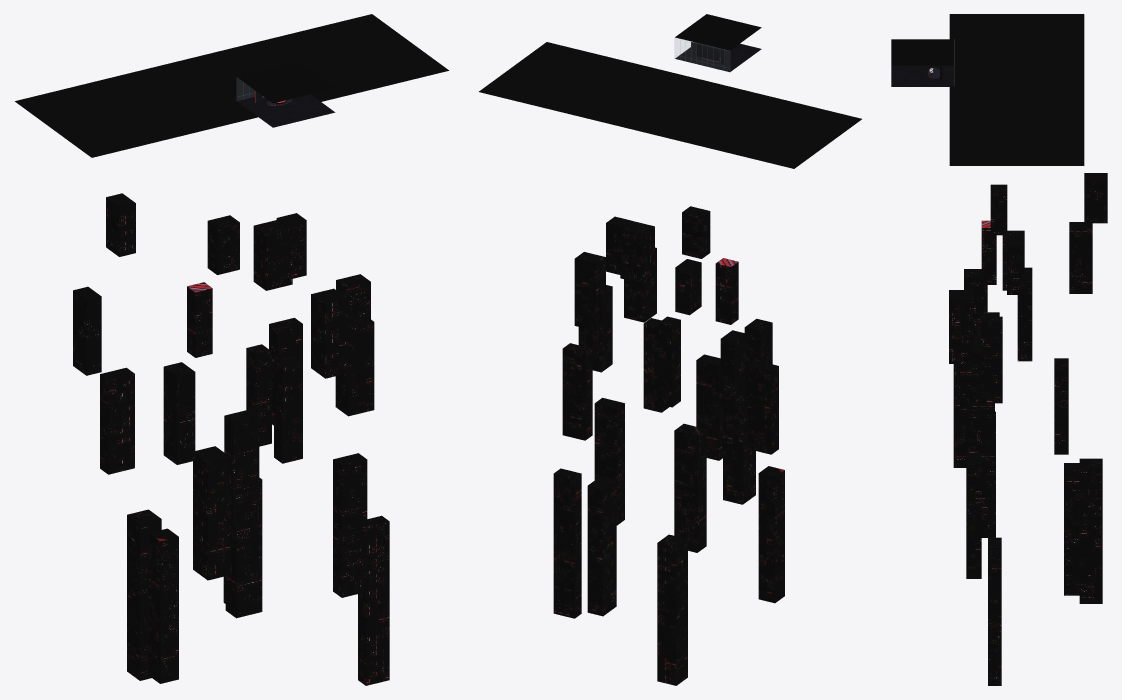
The model's file is newsroom-breaking.glb.
The picture shows the model from 3 angles, left to right: view 1: azimuth 30°, elevation 25°; view 2: azimuth 150°, elevation 25°; view 3: azimuth 270°, elevation 25°; orthographic projection. The views are drawn at different scales.
Visible parts, largest first — view 1: news_skyline, news_ceiling, news_floor; view 2: news_skyline, news_ceiling, news_glass, news_floor; view 3: news_skyline, news_ceiling, news_floor.
Boxes of the visible parts, x1,y1,x2,y2 form: news_skyline: (15, 14, 448, 685); news_ceiling: (237, 61, 335, 103); news_floor: (237, 94, 335, 127); news_skyline: (479, 42, 861, 685); news_ceiling: (675, 14, 761, 50); news_glass: (674, 37, 729, 71); news_floor: (675, 43, 761, 72); news_skyline: (949, 14, 1107, 685); news_ceiling: (891, 39, 953, 65); news_floor: (891, 65, 953, 86).
Size of the model in its own units: 80 by 141 by 48.19.
Materials: 16 (6 with a texture image).
